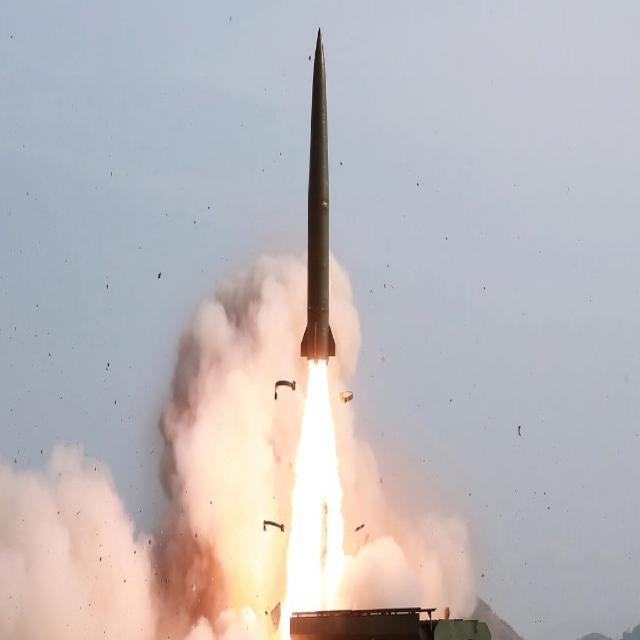Missile: (294, 12, 337, 374)
